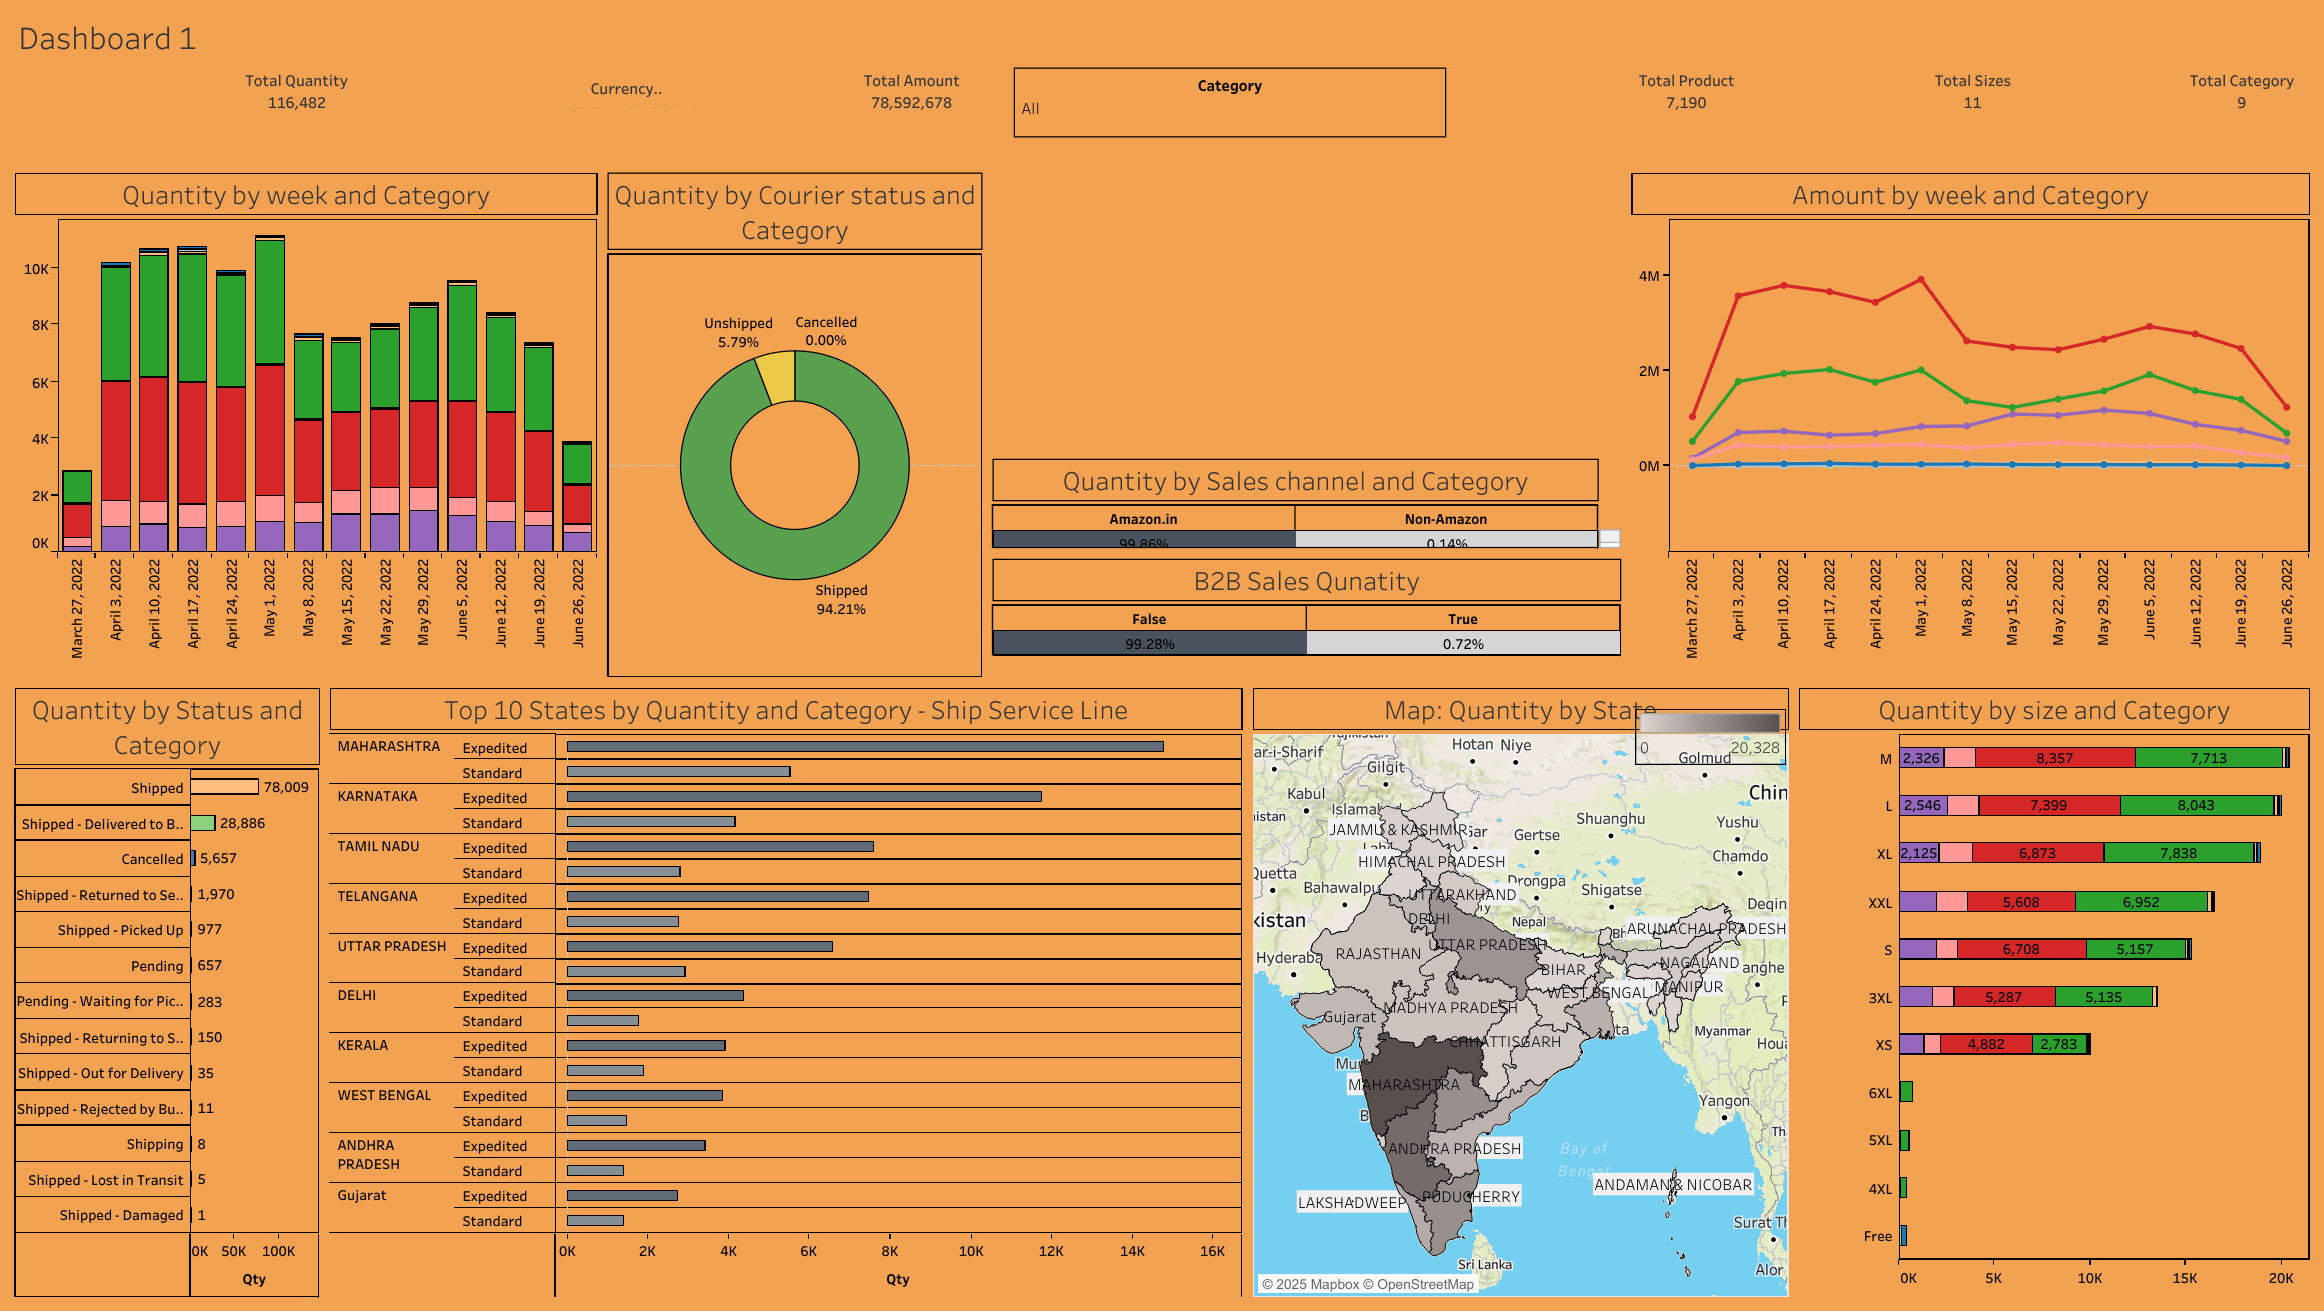

What the dashboard file says about the page in this screenshot:
{"tool":"tableau","page":{"name":"Dashboard 1","canvas":[1860,1050],"ordinal":0},"visuals":[{"type":"image","param":"/Users/visheshyadav/Downloads/quantity logo.png","box":[8,8,167,88]},{"type":"worksheet","title":"Total Quantity","mark":"Automatic","box":[175,8,126,88]},{"type":"image","param":"/Users/visheshyadav/Downloads/inr logo.png","box":[301,8,145,88]},{"type":"worksheet","title":"Currency","mark":"Automatic","box":[446,8,111,88]},{"type":"image","param":"/Users/visheshyadav/Downloads/amount logo.png","box":[557,8,99,88]},{"type":"worksheet","title":"Total Amount","mark":"Automatic","box":[656,8,151,88]},{"type":"filter","title":"Map: Quantity by State","param":"[federated.07apdir1bl6ygh1a1re3i0ulhrnm].[none:Category:nk]","box":[807,8,353.5,60]},{"type":"image","param":"/Users/visheshyadav/Downloads/products logo.png","box":[1160.5,8,115.2,88]},{"type":"worksheet","title":"Total Product","mark":"Automatic","box":[1275.8,8,149.2,88]},{"type":"image","param":"/Users/visheshyadav/Downloads/size logo.png","box":[1425,8,80,88]},{"type":"worksheet","title":"Total Sizes","mark":"Automatic","box":[1505,8,154,88]},{"type":"image","param":"/Users/visheshyadav/Downloads/categories logo.jpg.png","box":[1659,8,77.7,88]},{"type":"worksheet","title":"Total Category","mark":"Automatic","box":[1736.8,8,115.2,88]},{"type":"worksheet","title":"Quantity by week and Category","mark":"Bar","rows":["Qty"],"cols":["Date"],"box":[8,96,474,429]},{"type":"worksheet","title":"Quantity by Courier status and Category","mark":"Pie","rows":["Calculation_2163838933225631745","Calculation_2163838933225631745"],"box":[482,96,308,429]},{"type":"image","param":"/Users/visheshyadav/Downloads/amazon logo 2.PNG","box":[790,96,511,238]},{"type":"worksheet","title":"Amount by week and Category ","mark":"Line","rows":["Amount"],"cols":["Date"],"box":[1301,96,551,429]},{"type":"worksheet","title":"Quantity by Sales channel and Category ","mark":"Square","cols":["Sales Channel "],"box":[790,334,511,83.5]},{"type":"worksheet","title":"B2B Sales Qunatity","mark":"Square","cols":["B2B"],"box":[790,417.5,511,107.5]},{"type":"worksheet","title":"Quantity by Status and Category","mark":"Bar","rows":["Status"],"cols":["Qty"],"box":[8,525,252.4,517]},{"type":"worksheet","title":"Top 10 States by Quantity and Category - Ship Service Line","mark":"Bar","rows":["ship-state","ship-service-level"],"cols":["Qty"],"box":[260.4,525,737.6,517]},{"type":"worksheet","title":"Map: Quantity by State","mark":"Automatic","box":[998,525,436.8,517]},{"type":"worksheet","title":"Quantity by size and Category ","mark":"Bar","rows":["Size"],"cols":["Qty"],"box":[1434.8,525,417.2,517]},{"type":"legend","title":"Map: Quantity by State","param":"[federated.07apdir1bl6ygh1a1re3i0ulhrnm].[sum:Qty:qk]","box":[1308,567,121,45]}]}

Visuals, with their boxes in screenshot pixels (x1, y1, x2, y2), scaled from the page's 1860x1050 canvas onto the 2324x1311 screenshot:
image: (10,10,219,120)
"Total Quantity" worksheet: (219,10,376,120)
image: (376,10,557,120)
"Currency" worksheet: (557,10,696,120)
image: (696,10,820,120)
"Total Amount" worksheet: (820,10,1008,120)
"Map: Quantity by State" filter: (1008,10,1450,85)
image: (1450,10,1594,120)
"Total Product" worksheet: (1594,10,1780,120)
image: (1780,10,1880,120)
"Total Sizes" worksheet: (1880,10,2073,120)
image: (2073,10,2170,120)
"Total Category" worksheet: (2170,10,2314,120)
"Quantity by week and Category" worksheet (Bar marks): (10,120,602,656)
"Quantity by Courier status and Category" worksheet (Pie marks): (602,120,987,656)
image: (987,120,1626,417)
"Amount by week and Category " worksheet (Line marks): (1626,120,2314,656)
"Quantity by Sales channel and Category " worksheet (Square marks): (987,417,1626,521)
"B2B Sales Qunatity" worksheet (Square marks): (987,521,1626,656)
"Quantity by Status and Category" worksheet (Bar marks): (10,656,325,1301)
"Top 10 States by Quantity and Category - Ship Service Line" worksheet (Bar marks): (325,656,1247,1301)
"Map: Quantity by State" worksheet: (1247,656,1793,1301)
"Quantity by size and Category " worksheet (Bar marks): (1793,656,2314,1301)
"Map: Quantity by State" legend: (1634,708,1785,764)
